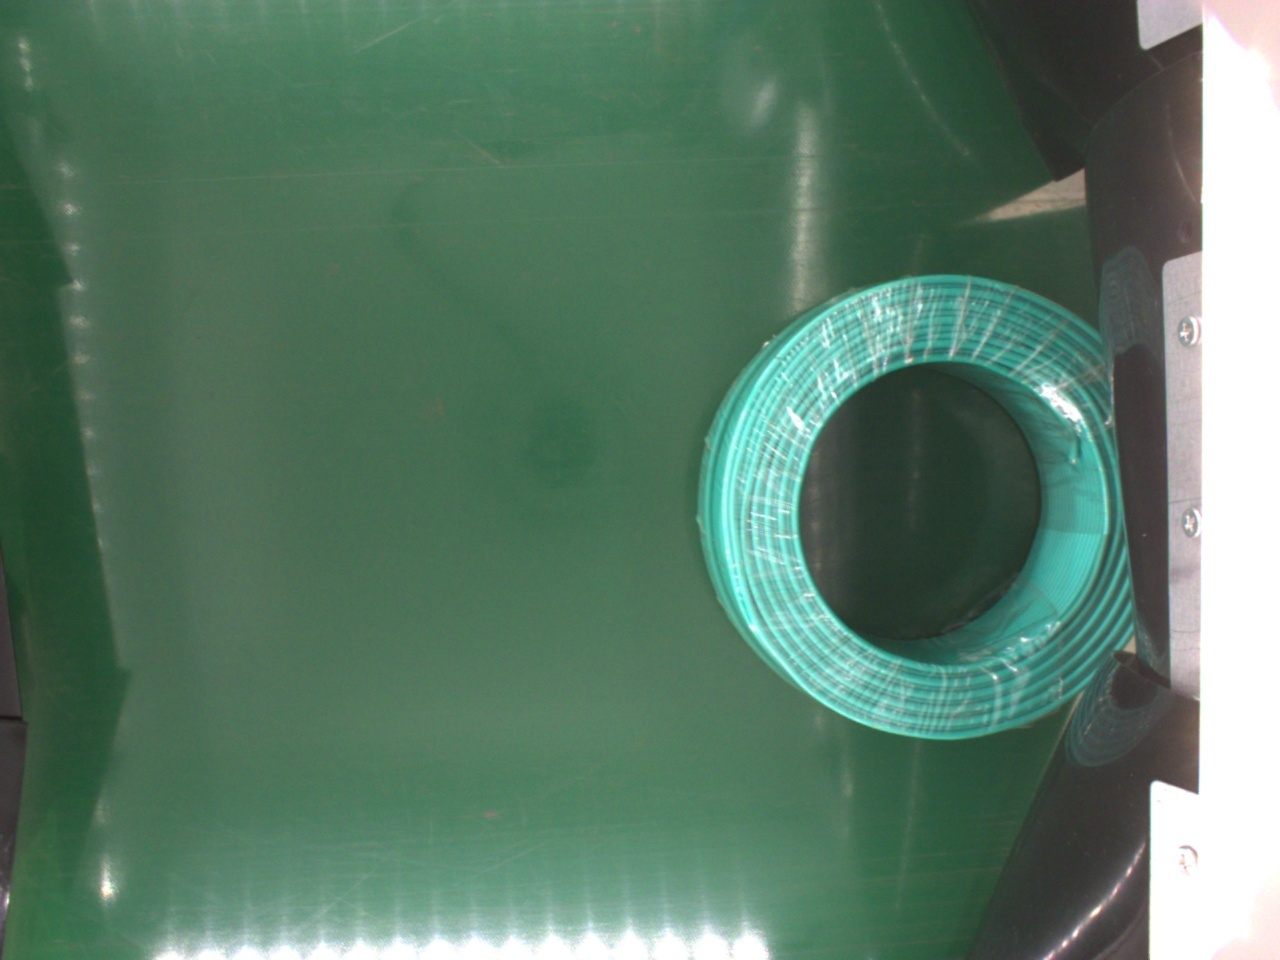green: (693, 275, 1128, 742)
